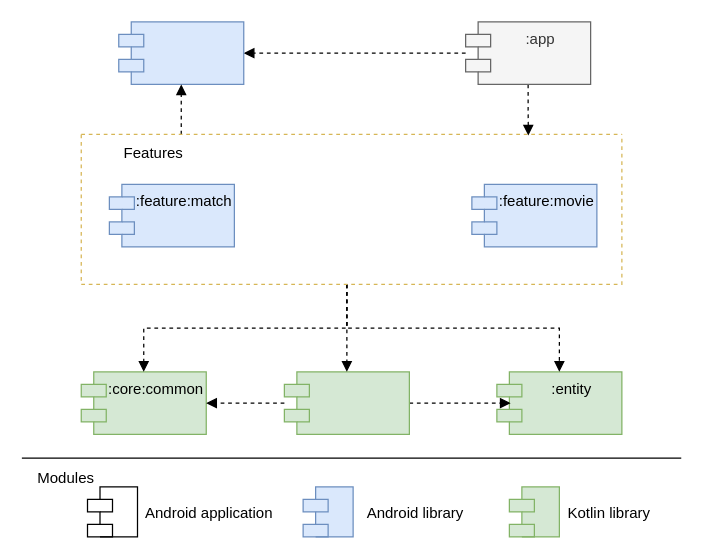
Some shapes in this 704 by 559 pixel diagram are drawn without their labels. Each missing label, with the centre of its shape:
":core:ui" belongs at [181,52].
":domain" belongs at [346,402].
